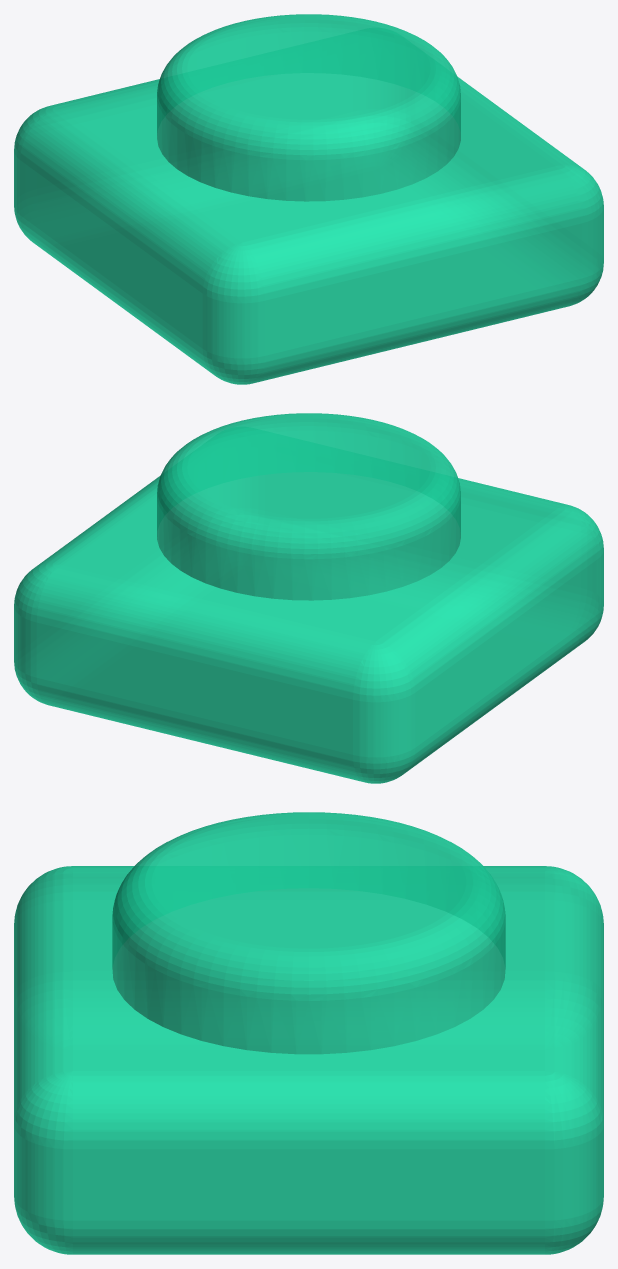
3 renders of one model, top to bottom at view 1: azimuth 30°, elevation 25°; view 2: azimuth 150°, elevation 25°; view 3: azimuth 270°, elevation 25°, orthographic. The views are drawn at different scales.
Parts seen in each view (by area): view 1: 产品3 (2); view 2: 产品3 (2); view 3: 产品3 (2).
Part boxes in pixels (x1,y1,x2,y2): 产品3 (2): (14,14,603,384); 产品3 (2): (14,413,603,783); 产品3 (2): (14,812,603,1254).
Bounding box in the file's own units: 0.03 × 0.03 × 0.015.
